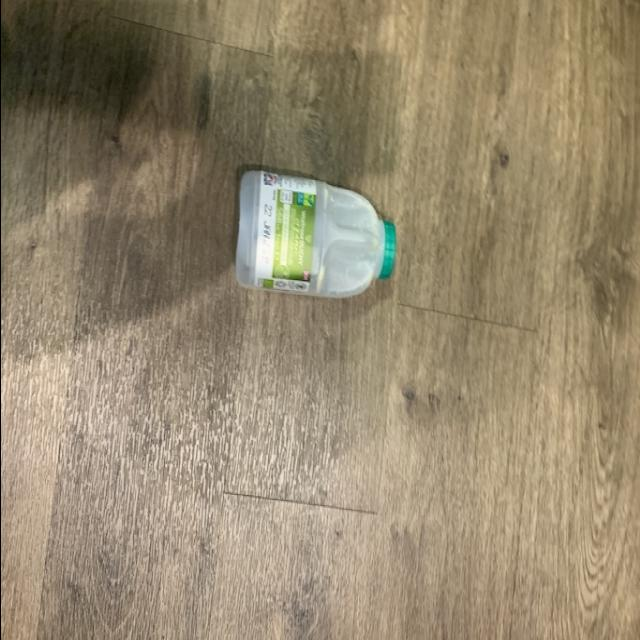litter: (230, 164, 400, 302)
